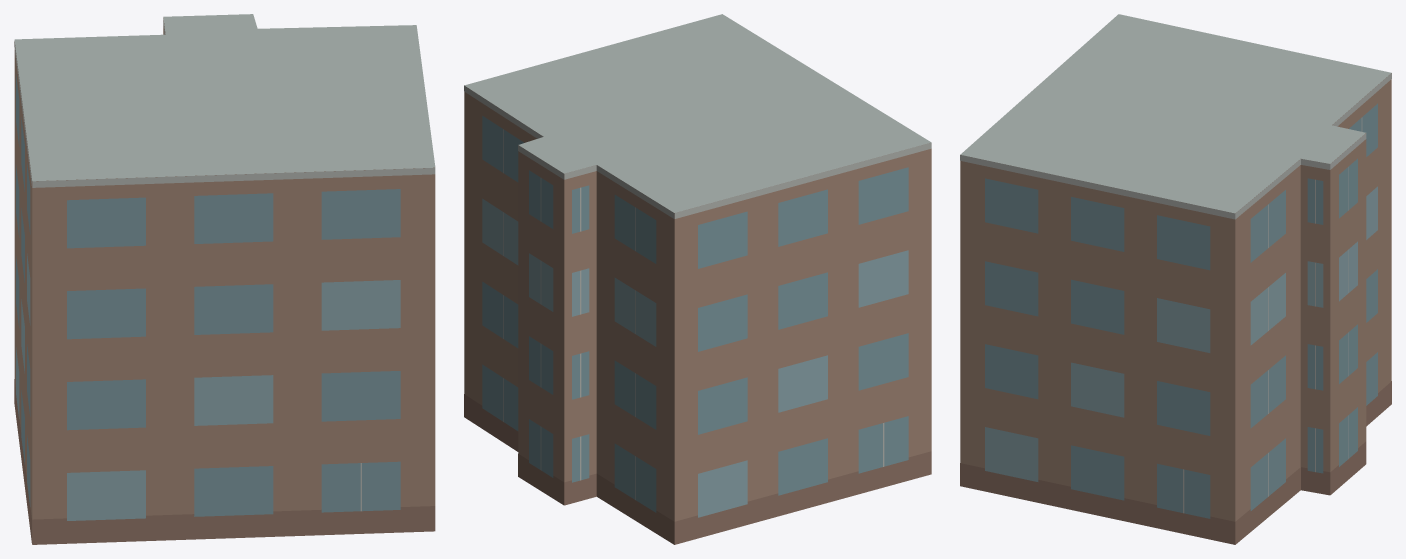
File: survey-upis-33014823.glb
3 renders of one model, left to right at view 1: azimuth 30°, elevation 25°; view 2: azimuth 150°, elevation 25°; view 3: azimuth 270°, elevation 25°, orthographic. The views are drawn at different scales.
Parts seen in each view (by area): view 1: survey-upis-33014823.tmp; view 2: survey-upis-33014823.tmp; view 3: survey-upis-33014823.tmp.
Boxes of the visible parts, x1,y1,x2,y2 form: survey-upis-33014823.tmp: (14,14,435,544); survey-upis-33014823.tmp: (464,14,931,544); survey-upis-33014823.tmp: (960,14,1391,544).
Size of the model in its own units: 17.17 by 13.3 by 15.71.
